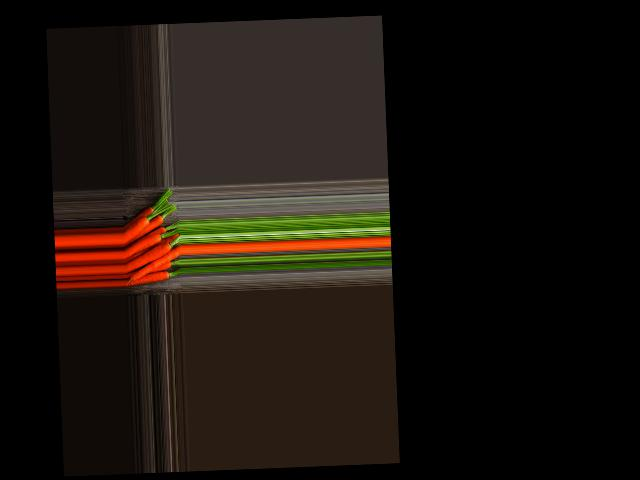carrot: (124, 214, 173, 240)
